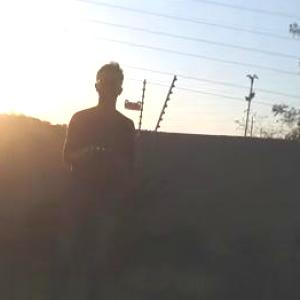follow: (52, 56, 138, 299)
